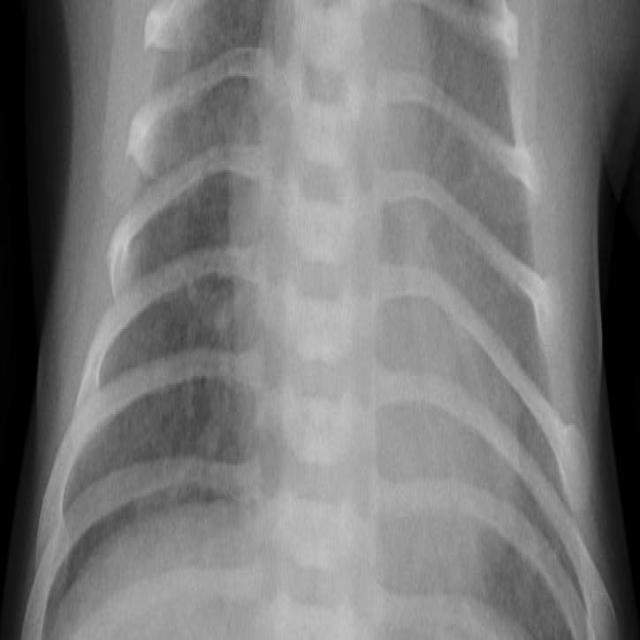low-pneumonia: (423, 34, 521, 322)
